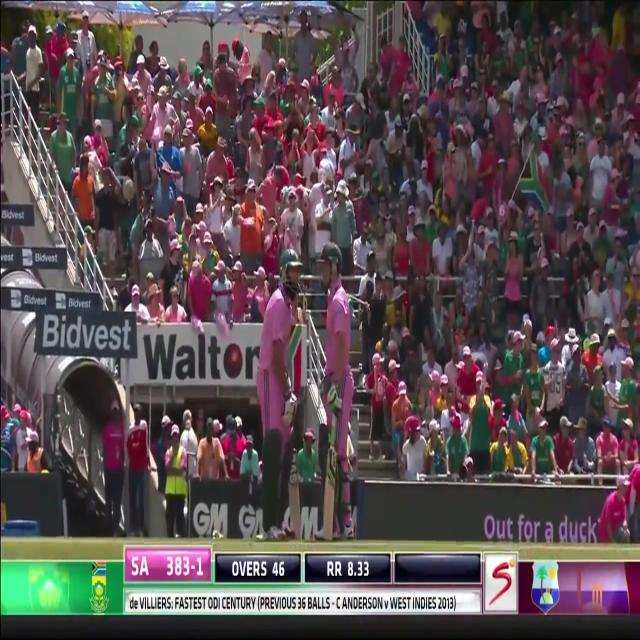Ball: (249, 245, 304, 544), (313, 242, 357, 544)
